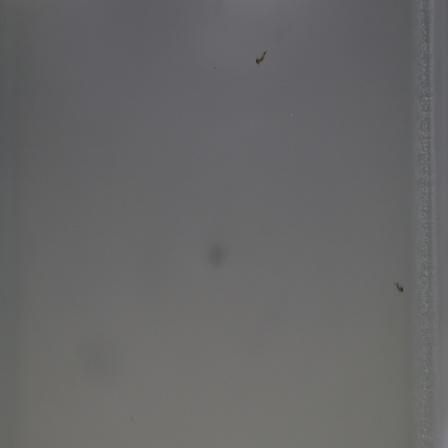Jentik-Nyamuk: (249, 46, 272, 68), (392, 276, 408, 298)
